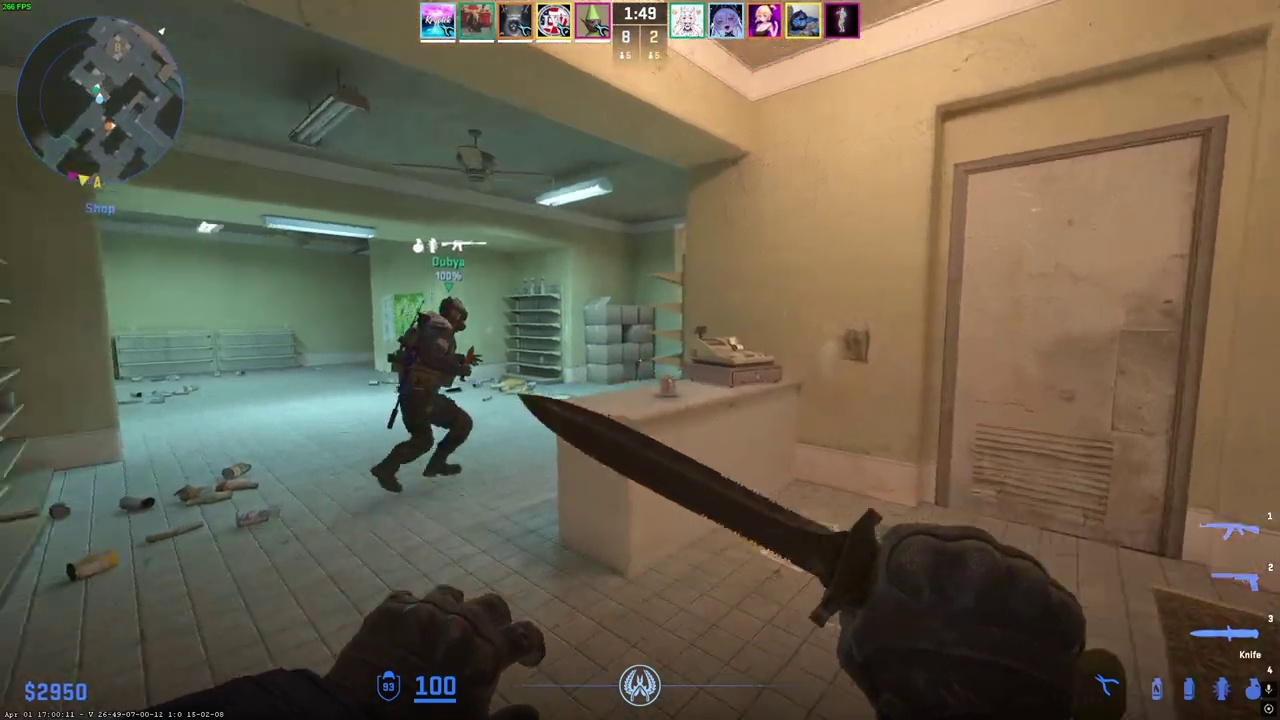CT: (377, 296, 481, 493)
